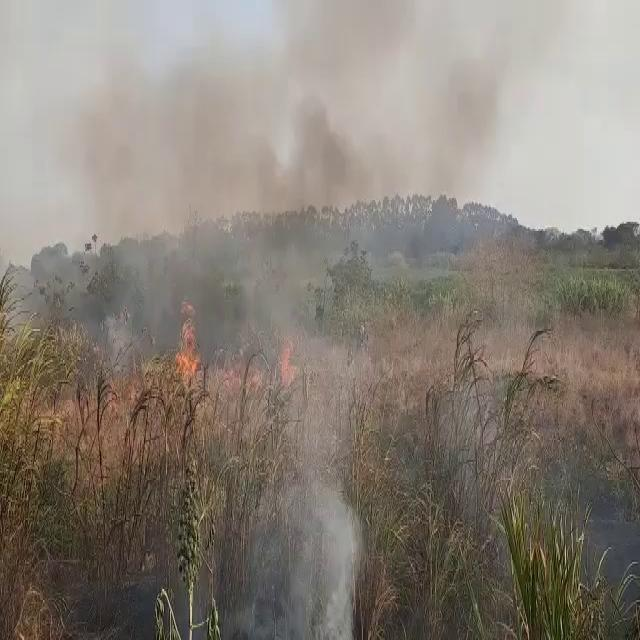Fire: (280, 346, 300, 386), (176, 354, 200, 378)
Smoke: (96, 82, 347, 284), (277, 472, 358, 640)
